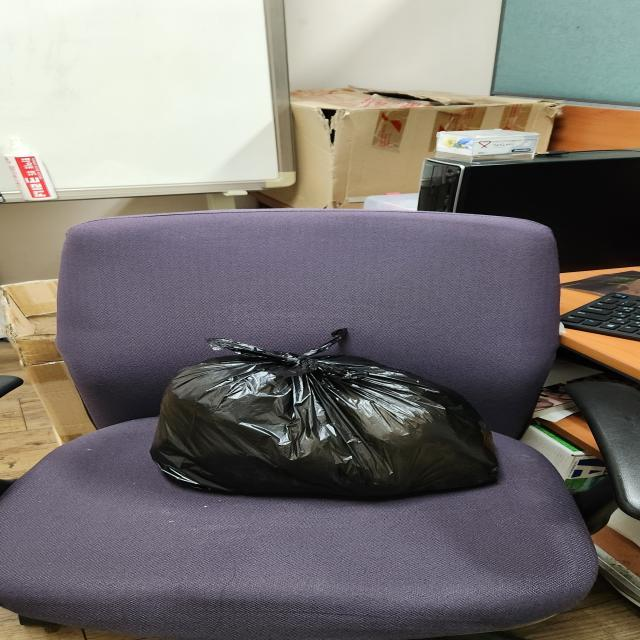black_bag: (145, 325, 508, 506)
